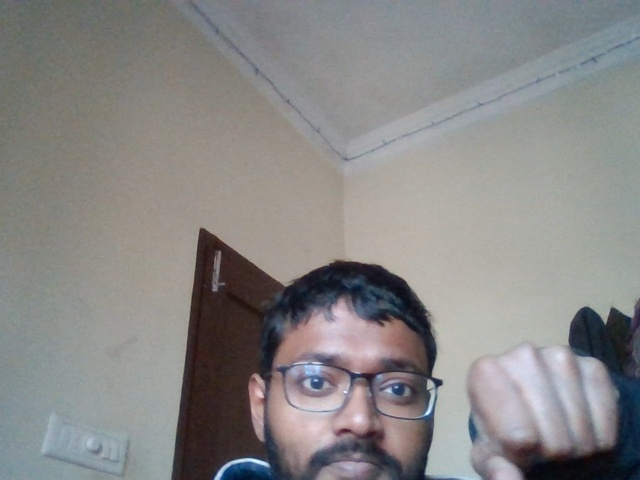yes: (458, 336, 631, 473)
